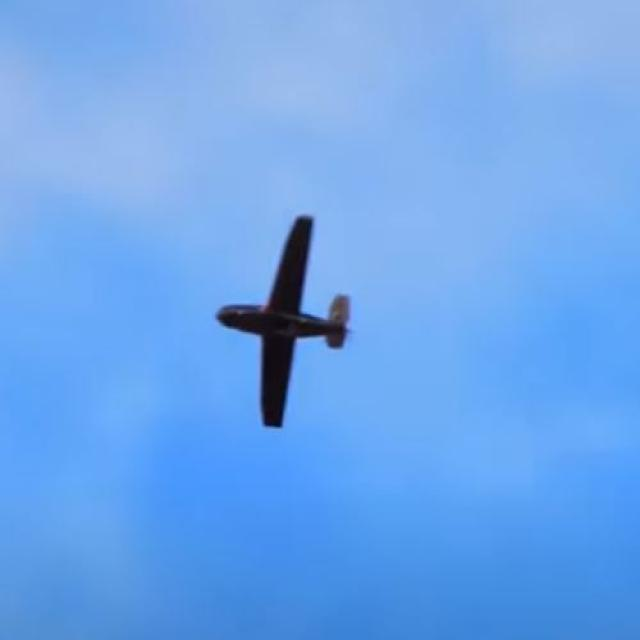iha: (212, 213, 352, 431)
